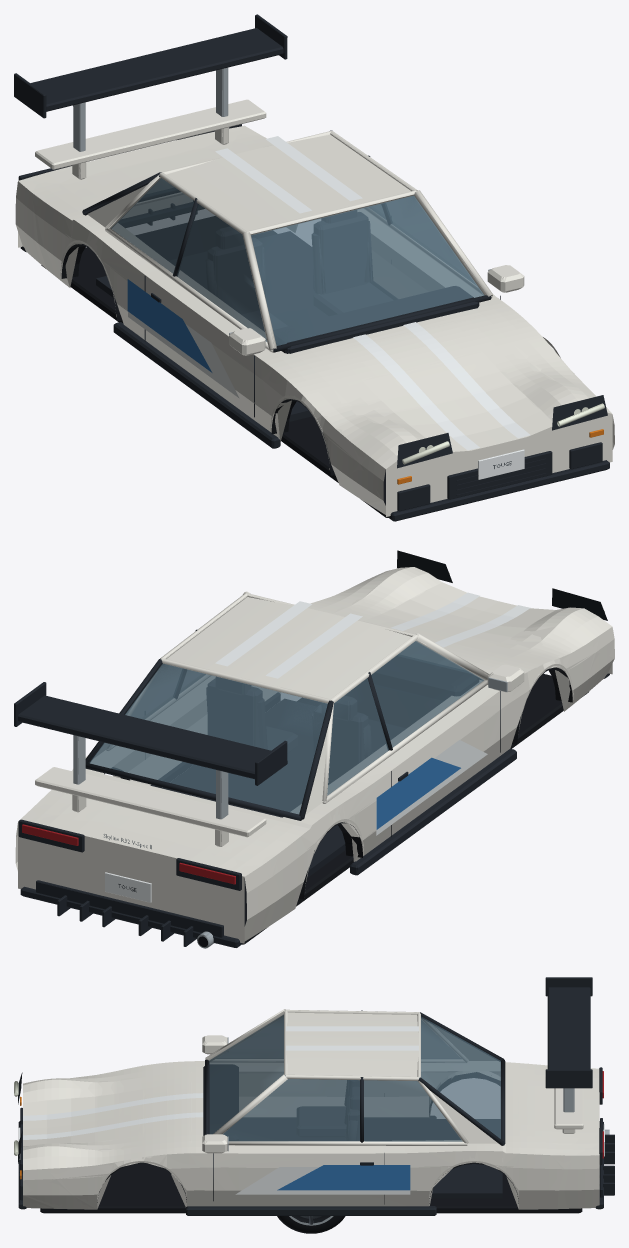
3 views of the same model, one above another, from view 1: azimuth 30°, elevation 25°; view 2: azimuth 150°, elevation 25°; view 3: azimuth 270°, elevation 25° (orthographic). The views are drawn at different scales.
Parts seen in each view (by area): view 1: LOD0_body, LOD0_cabin, LOD0_glass, LOD1_glass, LOD1_body, LOD0_hood, LOD0_spoiler_gt, LOD1_hood, LOD1_cabin, LOD0_vinyl_apex, LOD1_spoiler_stock, LOD1_vinyl_twin (+3 smaller); view 2: LOD0_body, LOD0_cabin, LOD0_glass, LOD1_glass, LOD1_body, LOD1_cabin, LOD0_spoiler_gt, LOD0_hood, LOD1_hood, LOD1_spoiler_gt, LOD0_spoiler_stock, LOD0_vinyl_apex (+3 smaller); view 3: LOD0_body, LOD1_glass, LOD0_glass, LOD0_cabin, LOD1_body, LOD0_hood, LOD1_cabin, LOD1_hood, LOD0_spoiler_gt, LOD0_vinyl_apex, LOD1_spoiler_gt, LOD0_vinyl_twin (+5 smaller).
Part boxes in pixels (x1,y1,x2,y2): LOD0_body: (15,124,614,521); LOD0_cabin: (82,130,493,421); LOD0_glass: (111,178,484,345); LOD1_glass: (111,178,483,345); LOD1_body: (18,125,614,521); LOD0_hood: (276,304,588,456); LOD0_spoiler_gt: (14,14,287,151); LOD1_hood: (301,314,570,451); LOD1_cabin: (85,131,492,421); LOD0_vinyl_apex: (127,279,239,398); LOD1_spoiler_stock: (35,99,266,179); LOD1_vinyl_twin: (218,136,530,450); LOD0_body: (18,550,614,948); LOD0_cabin: (85,591,489,878); LOD0_glass: (90,641,483,814); LOD1_glass: (90,641,483,813); LOD1_body: (15,571,614,947); LOD1_cabin: (107,593,487,877); LOD0_spoiler_gt: (14,682,287,819); LOD0_hood: (317,567,597,682); LOD1_hood: (333,571,555,656); LOD1_spoiler_gt: (14,682,287,819); LOD0_spoiler_stock: (35,767,266,846); LOD0_vinyl_apex: (376,740,487,835); LOD0_body: (14,1035,614,1215); LOD1_glass: (209,1015,500,1141); LOD0_glass: (209,1015,500,1141); LOD0_cabin: (203,1009,505,1198); LOD1_body: (14,1035,609,1215); LOD0_hood: (23,1066,203,1159); LOD1_cabin: (204,1009,505,1198); LOD1_hood: (23,1072,191,1150); LOD0_spoiler_gt: (545,977,592,1112); LOD0_vinyl_apex: (235,1165,410,1194); LOD1_spoiler_gt: (545,978,592,1111); LOD0_vinyl_twin: (24,1026,418,1139).
Bounding box in the file's own units: 2.02 × 1.79 × 4.74.
